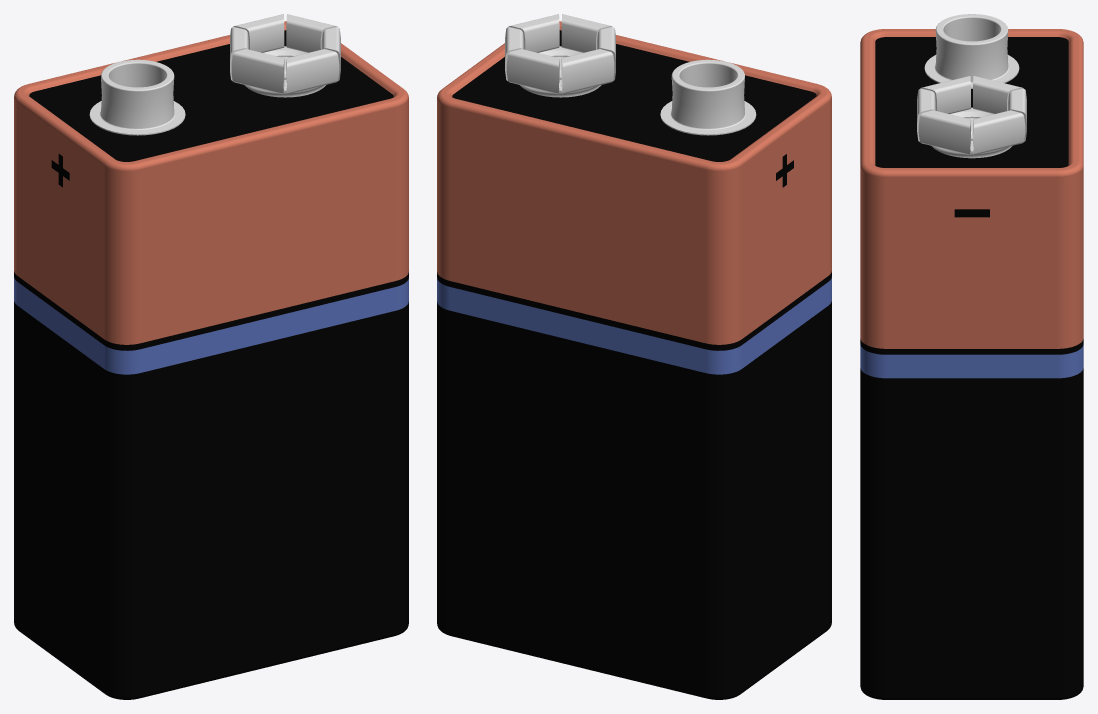
The model's file is 9V Battery 1.fbx.
3 renders of one model, left to right at view 1: azimuth 30°, elevation 25°; view 2: azimuth 150°, elevation 25°; view 3: azimuth 270°, elevation 25°, orthographic.
Visible parts, largest first — view 1: 9V Battery; view 2: 9V Battery; view 3: 9V Battery.
Boxes of the visible parts, x1,y1,x2,y2 form: 9V Battery: [14, 14, 408, 699]; 9V Battery: [437, 14, 831, 699]; 9V Battery: [860, 14, 1083, 699].
Size of the model in its own units: 2.65 by 4.8 by 1.72.
